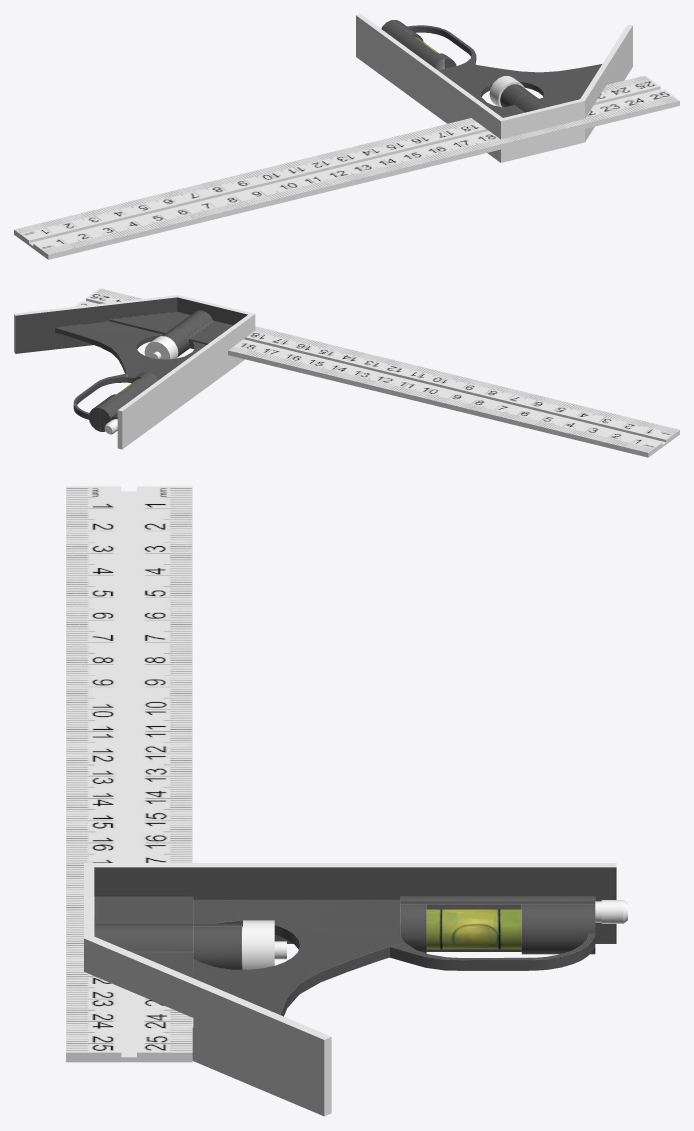
File: ruler-set-square.glb
3 renders of one model, top to bottom at view 1: azimuth 30°, elevation 25°; view 2: azimuth 150°, elevation 25°; view 3: azimuth 270°, elevation 25°, orthographic. The views are drawn at different scales.
Parts seen in each view (by area): view 1: Ruler_Ruler_0; view 2: Ruler_Ruler_0; view 3: Ruler_Ruler_0.
Part boxes in pixels (bbox=[...]): Ruler_Ruler_0: bbox=[14, 14, 679, 259]; Ruler_Ruler_0: bbox=[14, 288, 679, 457]; Ruler_Ruler_0: bbox=[66, 486, 627, 1116].
Size of the model in its own units: 0.3 by 0.0182 by 0.1214.
1 material, 1 textured.
